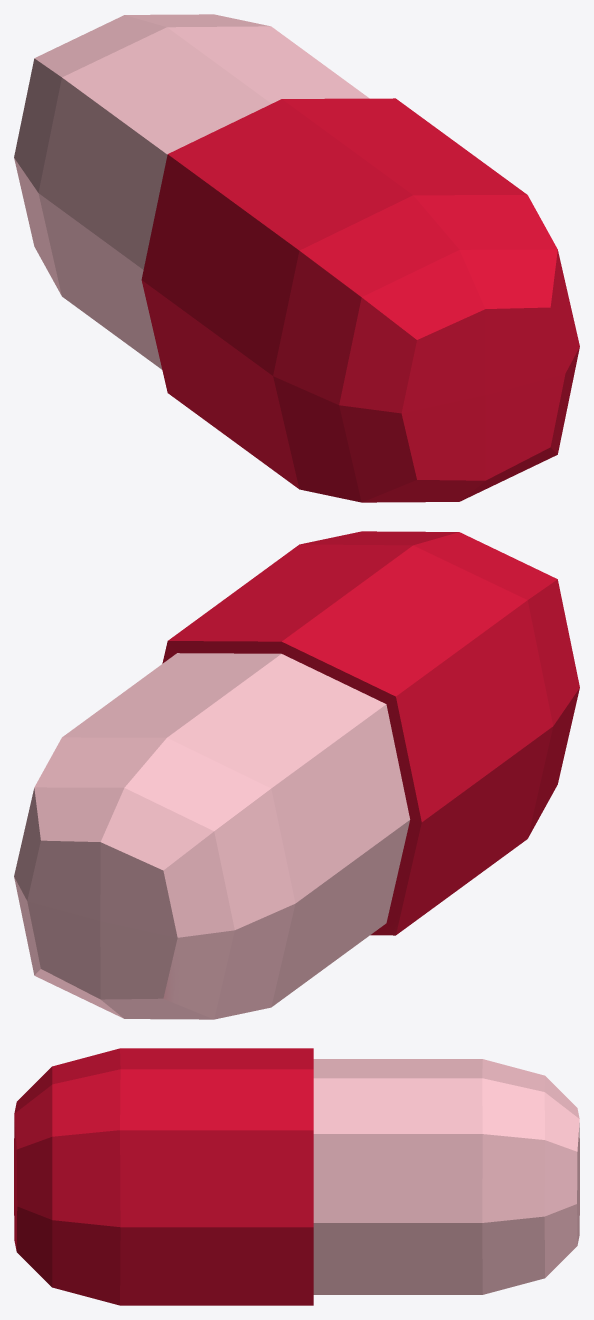
File: PIGULA.fbx
3 renders of one model, top to bottom at view 1: azimuth 30°, elevation 25°; view 2: azimuth 150°, elevation 25°; view 3: azimuth 270°, elevation 25°, orthographic. The views are drawn at different scales.
Parts seen in each view (by area): view 1: Cube.001; view 2: Cube.001; view 3: Cube.001.
Boxes of the visible parts, left/top/right/bottom form: Cube.001: left=14, top=14, right=579, bottom=502; Cube.001: left=14, top=531, right=579, bottom=1019; Cube.001: left=14, top=1048, right=579, bottom=1305.
Size of the model in its own units: 246 by 246 by 585.
